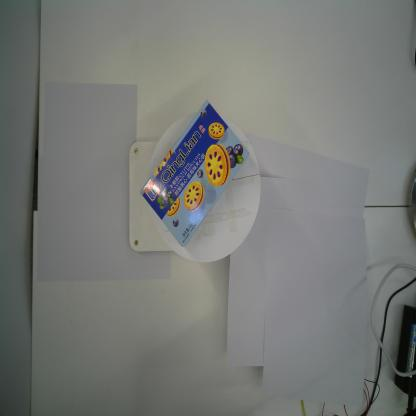Dessert: (140, 99, 250, 248)
